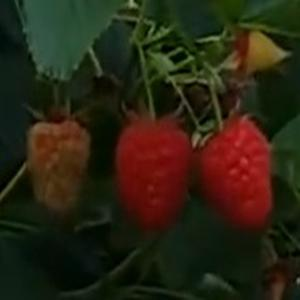raspb: (110, 112, 274, 233)
